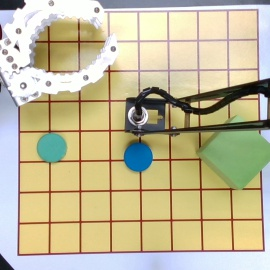blue: (123, 143, 153, 172)
green: (37, 134, 66, 162)
